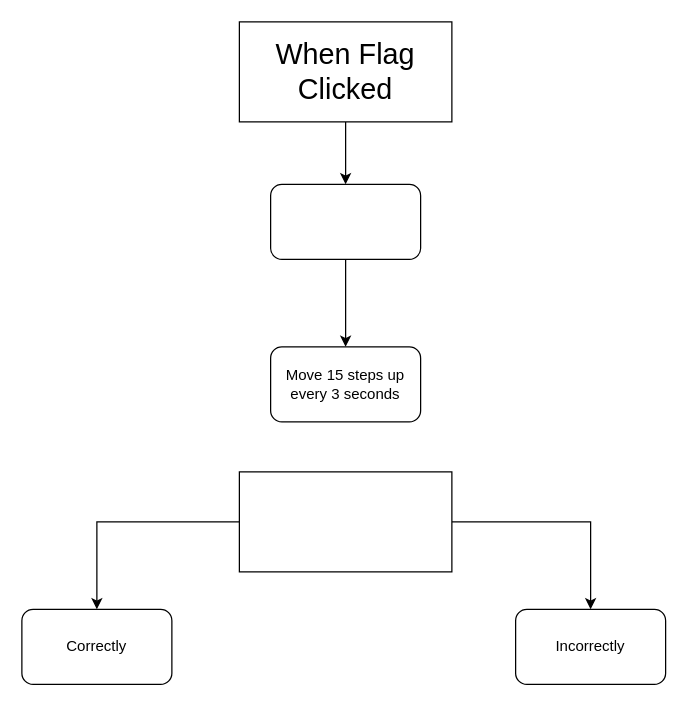
Image size: 688x706. Some labels were removed from this diagram. The shapes that lost their labels are listed below. From the top down, each one's box as (x1, y1, x2, y2) in pixels, then its label:
(269, 183, 421, 259): Go to start coordinates
(238, 471, 452, 572): If Question is answered
